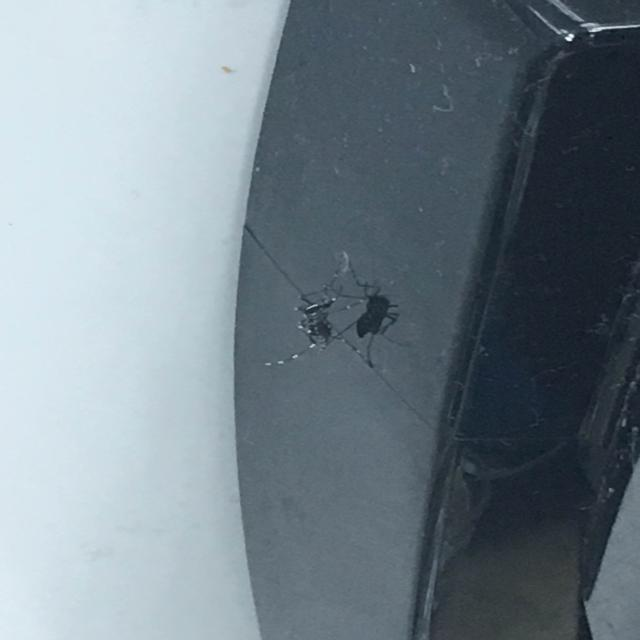albopictus: (255, 241, 412, 386)
